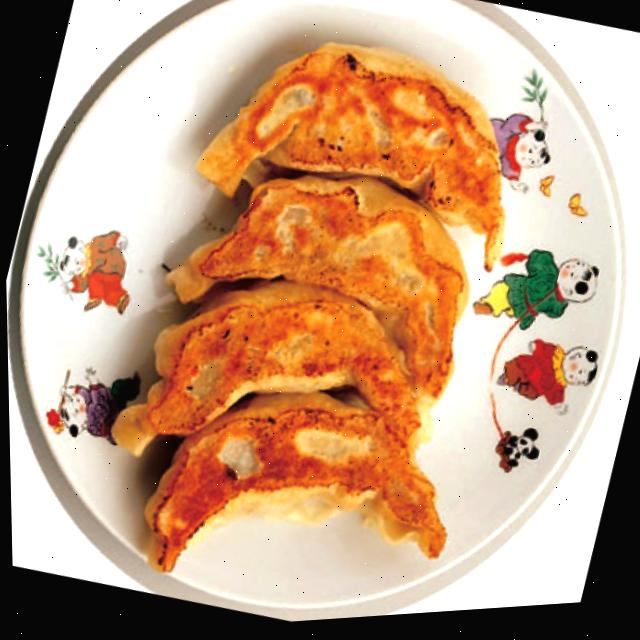带馅早点: (65, 0, 550, 637)
